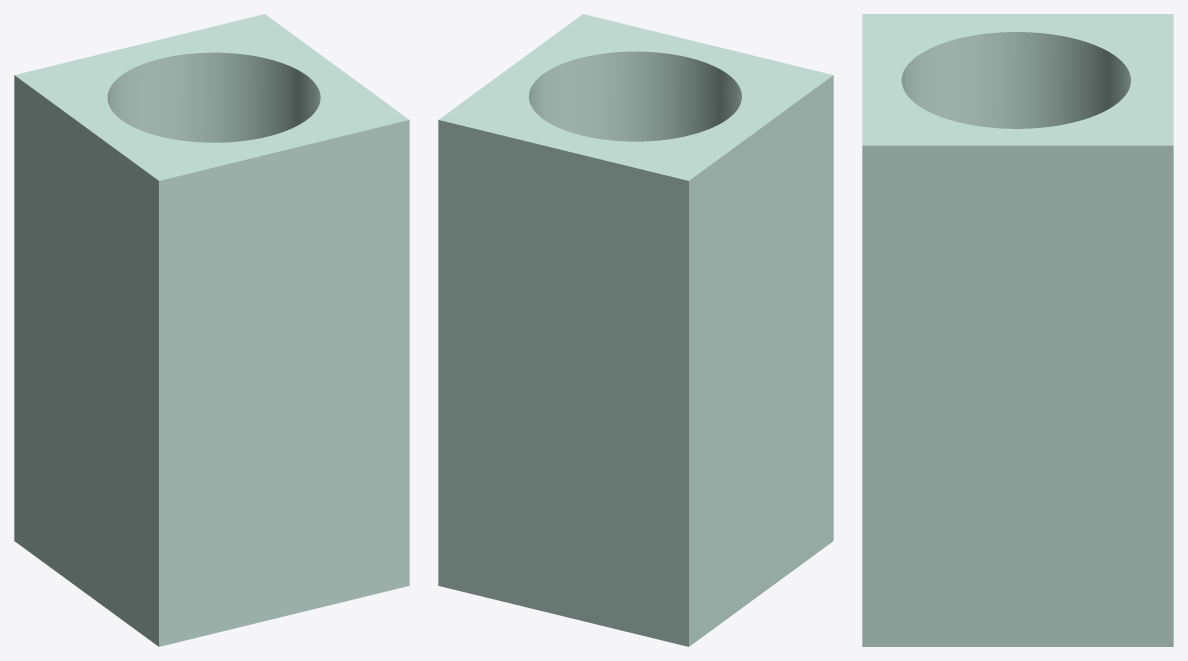
The model's file is expected.gltf.
3 views of the same model, side by side, from view 1: azimuth 30°, elevation 25°; view 2: azimuth 150°, elevation 25°; view 3: azimuth 270°, elevation 25° (orthographic). The views are drawn at different scales.
Visible parts, largest first — view 1: Renderer Node; view 2: Renderer Node; view 3: Renderer Node.
Boxes of the visible parts, x1,y1,x2,y2 form: Renderer Node: [14, 14, 409, 646]; Renderer Node: [438, 14, 833, 646]; Renderer Node: [862, 14, 1173, 646].
Bounding box in the file's own units: 0.4219 × 0.75 × 0.4219.
